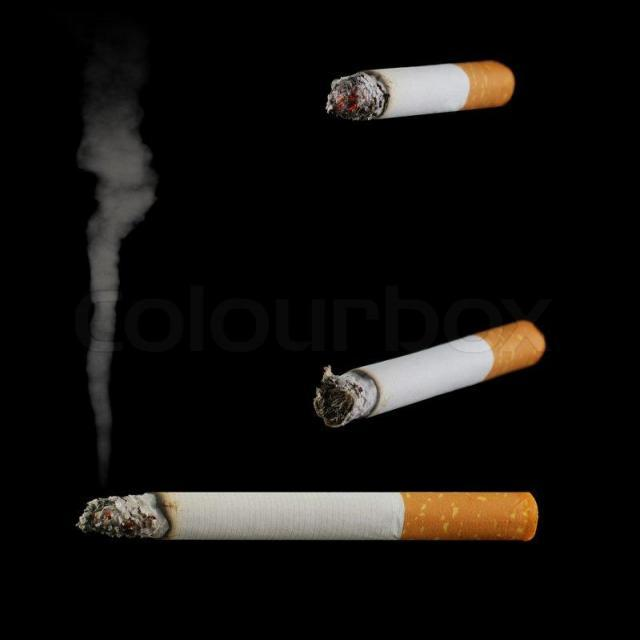cigarette: (76, 484, 545, 544)
